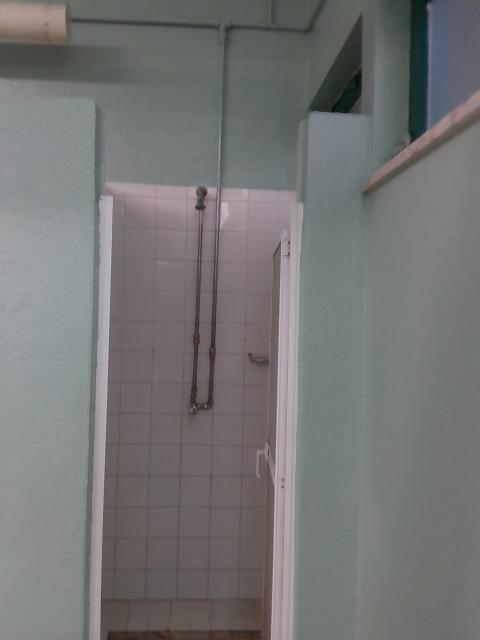open_door: (82, 99, 307, 639)
